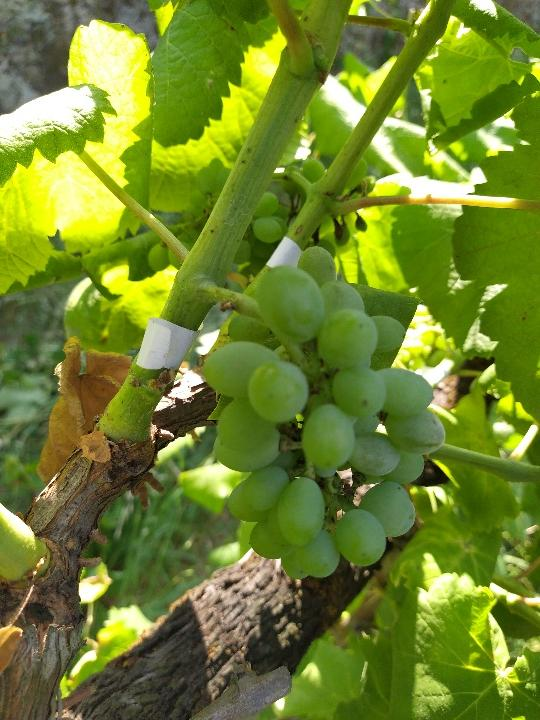grape: (197, 245, 448, 583)
